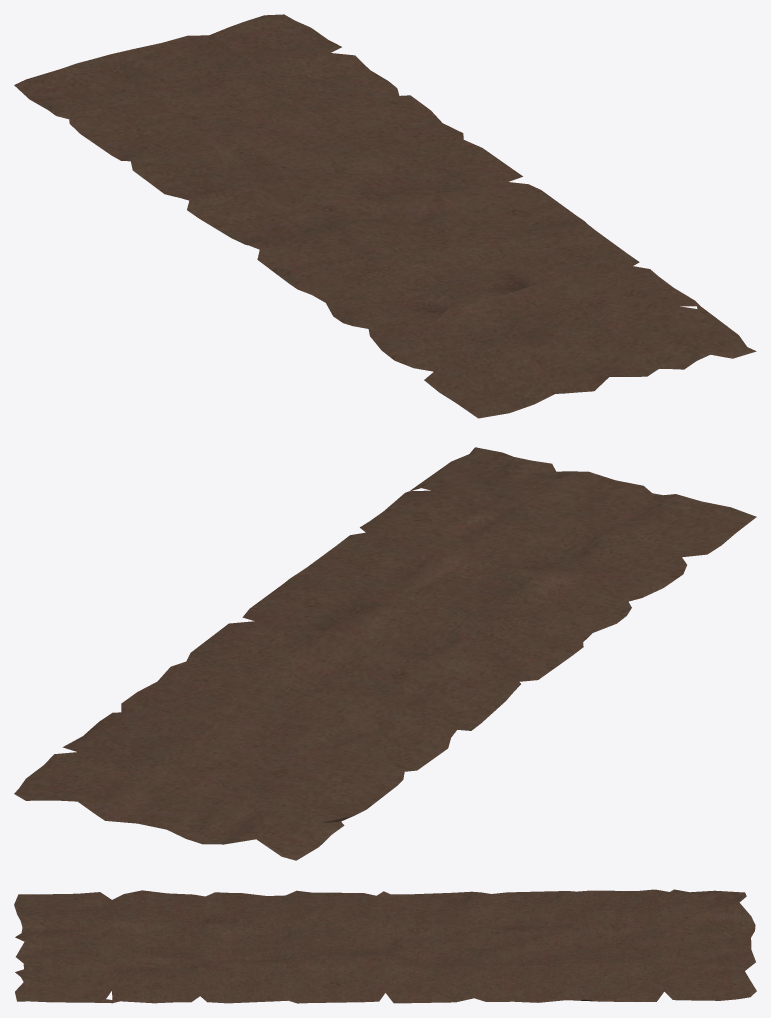
Rendered from Carpet0013.obj.
The picture shows the model from 3 angles, top to bottom: view 1: azimuth 30°, elevation 25°; view 2: azimuth 150°, elevation 25°; view 3: azimuth 270°, elevation 25°; orthographic projection. The views are drawn at different scales.
Size of the model in its own units: 1.32 by 0.055 by 3.67.
Materials: 1 (1 with a texture image).
